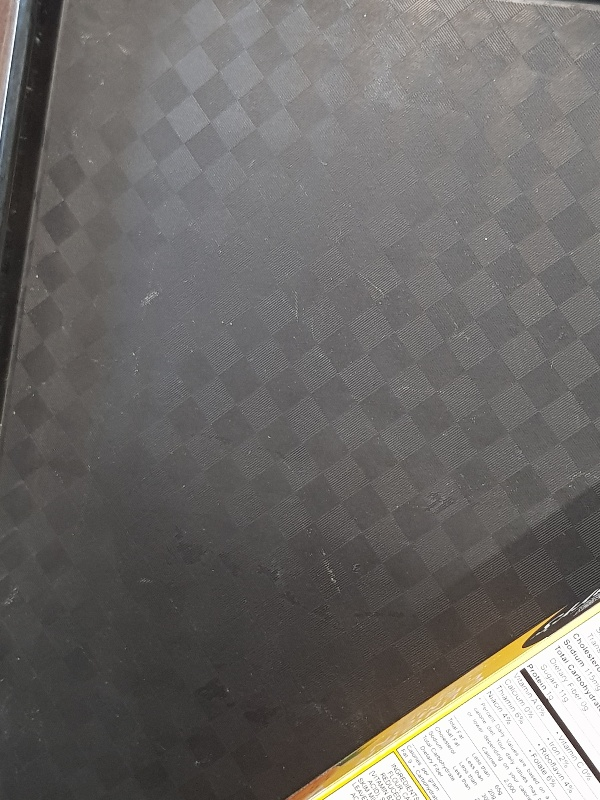Carr's Ginger Lemon Cremes: (281, 583, 600, 798)
